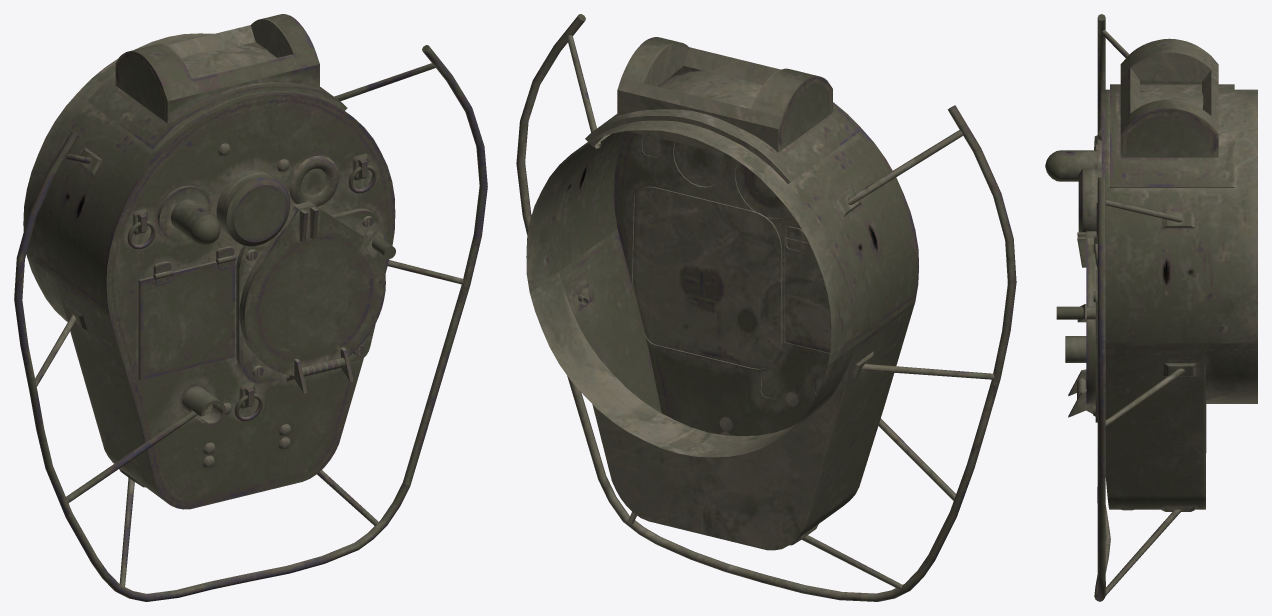
Rendered from Turret_01.glb.
The picture shows the model from 3 angles, left to right: view 1: azimuth 30°, elevation 25°; view 2: azimuth 150°, elevation 25°; view 3: azimuth 270°, elevation 25°; orthographic projection. The views are drawn at different scales.
Parts seen in each view (by area): view 1: set_0_group_0; view 2: set_0_group_0; view 3: set_0_group_0.
Boxes of the visible parts, bbox=[...] form: set_0_group_0: bbox=[14, 14, 487, 601]; set_0_group_0: bbox=[516, 14, 1016, 601]; set_0_group_0: bbox=[1045, 14, 1257, 601].
Bounding box in the file's own units: 2.15 × 2.25 × 0.8907.
Materials: 1 (1 with a texture image).
